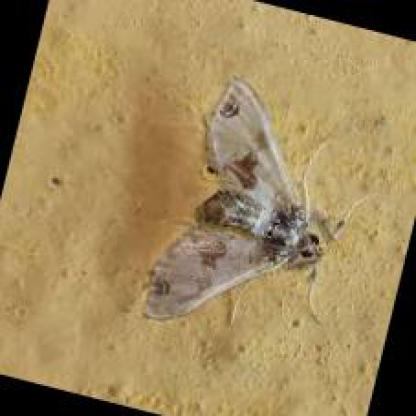leucinodes: (143, 77, 327, 324)
